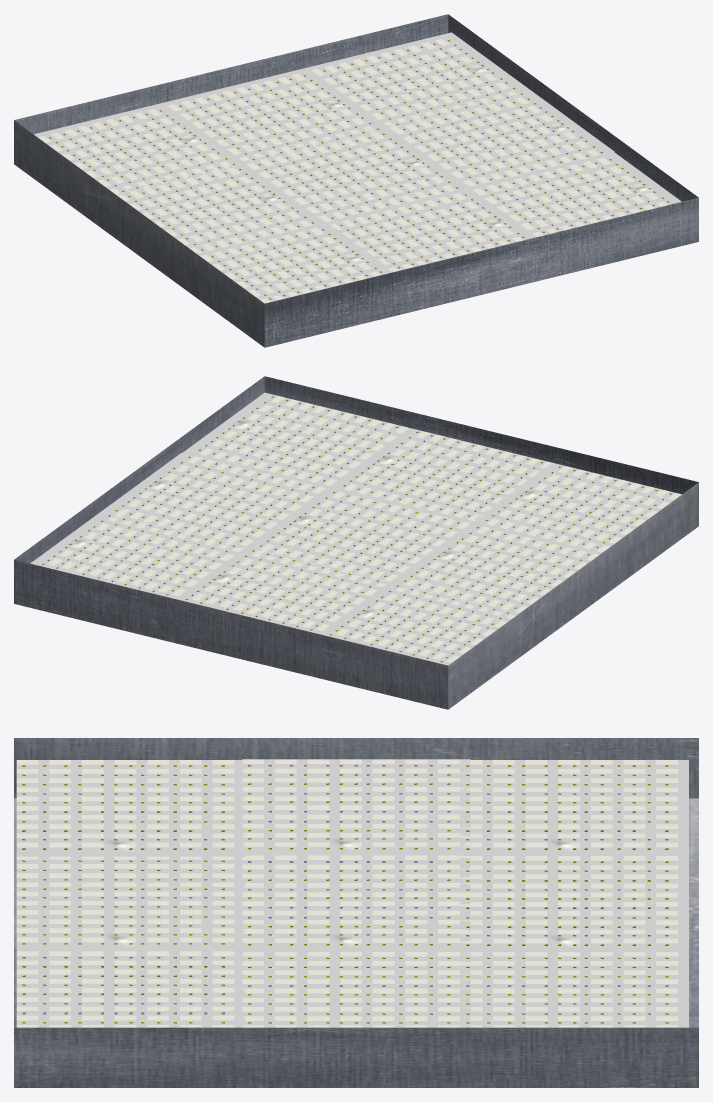
File: level1.glb
3 renders of one model, top to bottom at view 1: azimuth 30°, elevation 25°; view 2: azimuth 150°, elevation 25°; view 3: azimuth 270°, elevation 25°, orthographic. The views are drawn at different scales.
Visible parts, largest first — view 1: walls_0_3, top_4_7.002, top_4_7, top_4_7.004, top_4_7.003, top_4_7.005, top_4_7.001, top_4_7.008, top_4_7.007, top_4_7.006; view 2: walls_0_3, top_4_7.008, top_4_7.002, top_4_7.007, top_4_7, top_4_7.006, top_4_7.001, top_4_7.003, top_4_7.004, top_4_7.005; view 3: walls_0_3, top_4_7.006, top_4_7.001, top_4_7.007, top_4_7, top_4_7.005, top_4_7.004, top_4_7.008, top_4_7.002, top_4_7.003.
Boxes of the visible parts, box(x1,y1,x2,y2) form: walls_0_3: box(14, 14, 698, 347); top_4_7.002: box(387, 91, 614, 186); top_4_7: box(243, 126, 468, 222); top_4_7.004: box(163, 67, 387, 162); top_4_7.003: box(308, 32, 530, 128); top_4_7.005: box(34, 103, 245, 195); top_4_7.001: box(117, 161, 325, 253); top_4_7.008: box(469, 151, 681, 236); top_4_7.007: box(325, 187, 536, 272); top_4_7.006: box(196, 222, 394, 303); walls_0_3: box(14, 376, 698, 709); top_4_7.008: box(182, 392, 408, 488); top_4_7.002: box(100, 453, 325, 547); top_4_7.007: box(327, 428, 553, 523); top_4_7: box(245, 488, 469, 584); top_4_7.006: box(472, 463, 681, 554); top_4_7.001: box(387, 523, 599, 615); top_4_7.003: box(30, 512, 244, 598); top_4_7.004: box(175, 548, 386, 633); top_4_7.005: box(318, 581, 518, 665); walls_0_3: box(14, 738, 698, 1087); top_4_7.006: box(16, 760, 244, 856); top_4_7.001: box(242, 759, 470, 855); top_4_7.007: box(16, 856, 244, 951); top_4_7: box(242, 855, 470, 951); top_4_7.005: box(460, 760, 688, 856); top_4_7.004: box(460, 856, 688, 952); top_4_7.008: box(16, 951, 244, 1027); top_4_7.002: box(242, 952, 470, 1027); top_4_7.003: box(460, 952, 688, 1027).
Size of the model in its own units: 176 by 17.1 by 176.
Materials: 6 (4 with a texture image).
